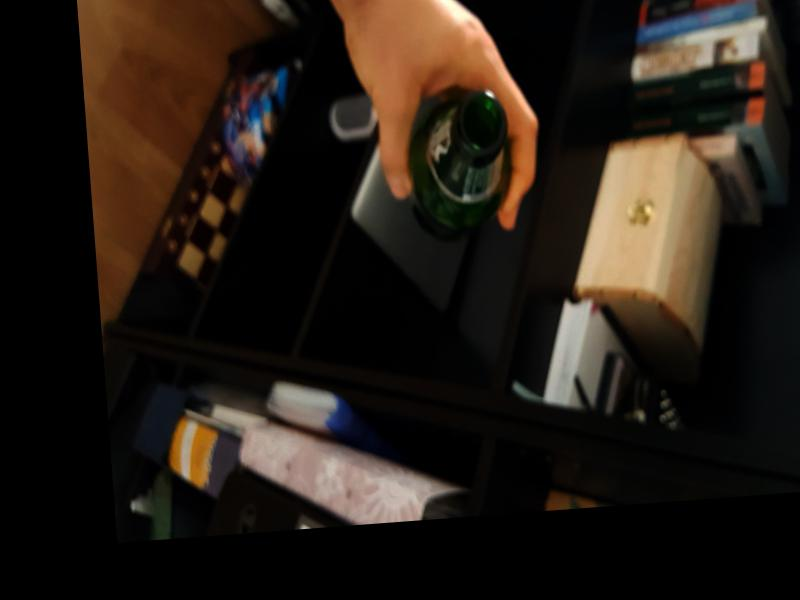Beer: (397, 87, 513, 243)
